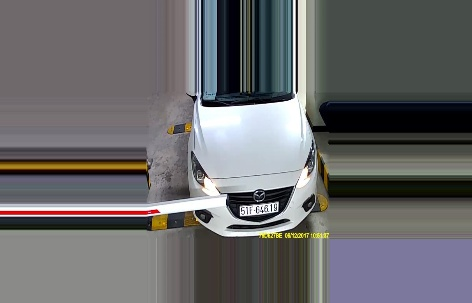plate: (236, 199, 281, 218)
